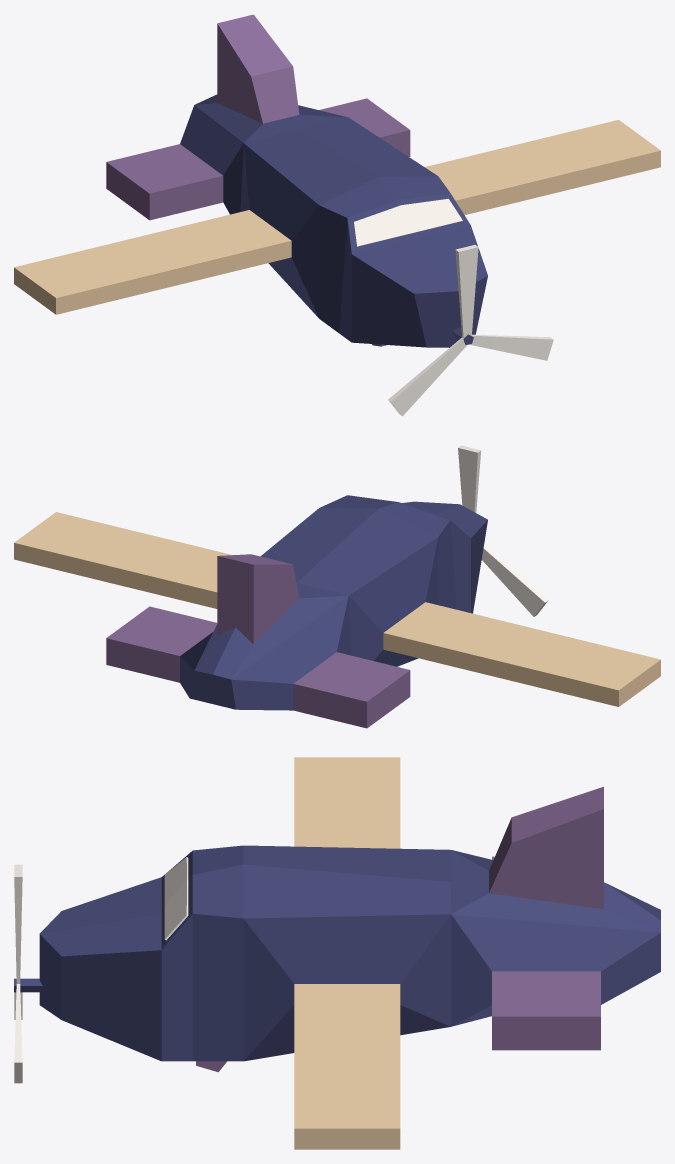
The model's file is airplane.gltf.
The picture shows the model from 3 angles, top to bottom: view 1: azimuth 30°, elevation 25°; view 2: azimuth 150°, elevation 25°; view 3: azimuth 270°, elevation 25°; orthographic projection. The views are drawn at different scales.
Visible parts, largest first — view 1: airplane_body, helix; view 2: airplane_body, helix; view 3: airplane_body, helix.
Part boxes in pixels (x1,y1,x2,y2): airplane_body: (14,14,660,347); helix: (388,245,553,416); airplane_body: (14,495,660,728); helix: (458,445,548,616); airplane_body: (39,757,660,1149); helix: (14,864,42,1083).
Size of the model in its own units: 9.04 by 3 by 6.66.
Materials: 1 (1 with a texture image).
